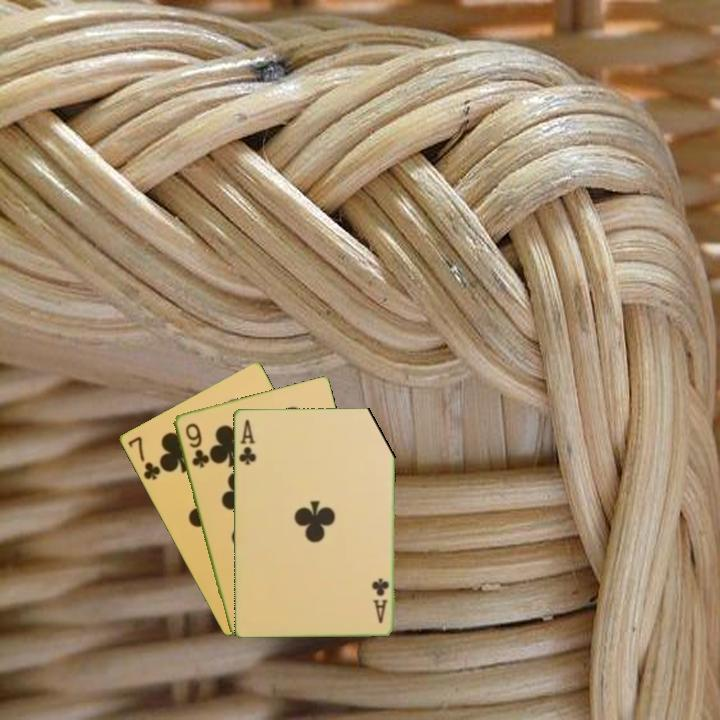7c: (124, 432, 163, 483)
9c: (181, 419, 210, 470)
Ac: (235, 415, 258, 467), (369, 574, 391, 626)
